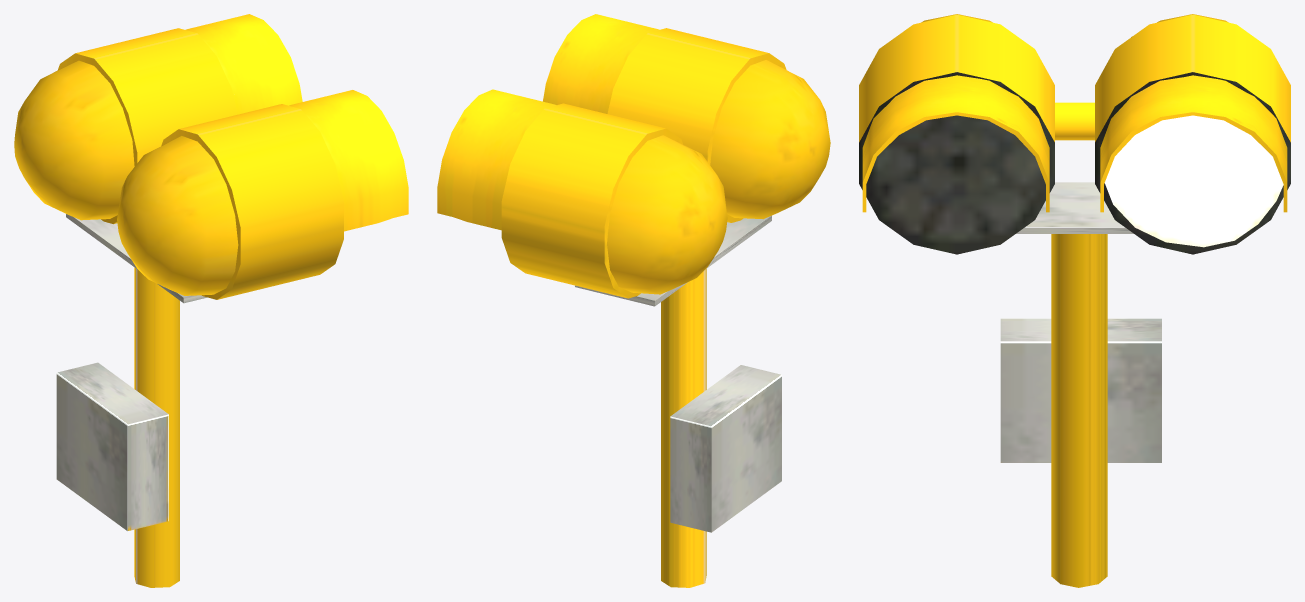
Rendered from wigwag.gltf.
3 views of the same model, side by side, from view 1: azimuth 30°, elevation 25°; view 2: azimuth 150°, elevation 25°; view 3: azimuth 270°, elevation 25° (orthographic). The views are drawn at different scales.
Parts seen in each view (by area): view 1: body; view 2: body; view 3: body, wigwag.
Part boxes in pixels (x1=…): body: x1=14, y1=14, x2=408, y2=587; body: x1=437, y1=14, x2=830, y2=587; body: x1=859, y1=14, x2=1290, y2=587; wigwag: x1=1104, y1=115, x2=1283, y2=247.
Size of the model in its own units: 0.696 by 1.35 by 0.952.
Materials: 1 (1 with a texture image).
